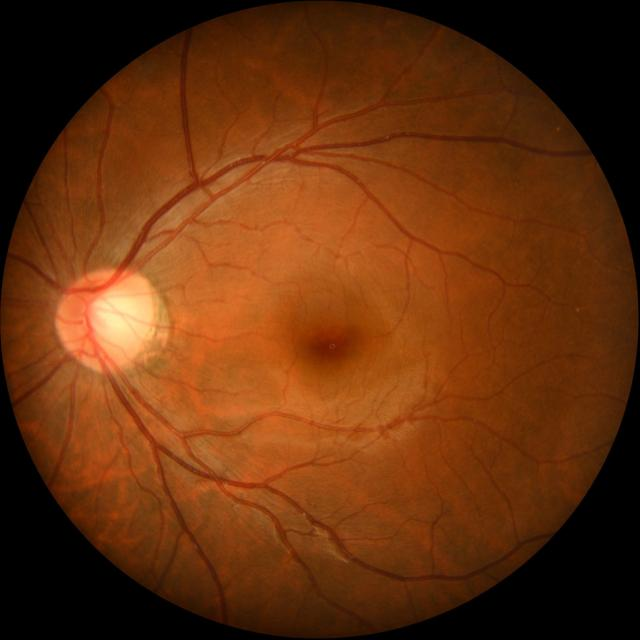OC: (87, 289, 140, 351)
OD: (58, 268, 157, 368)
